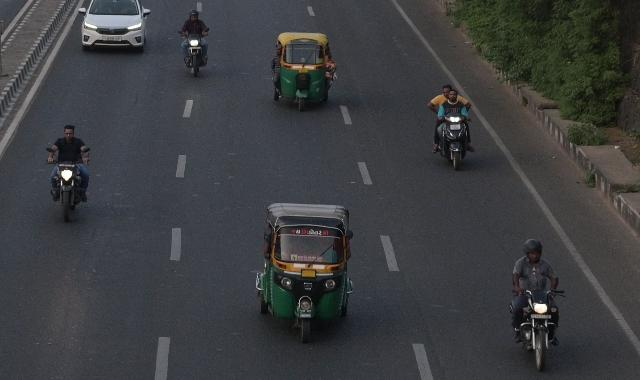With Helmet: (520, 236, 546, 263), (188, 8, 198, 24)
Without Helmet: (62, 123, 76, 142), (448, 90, 459, 102), (442, 85, 450, 99)
